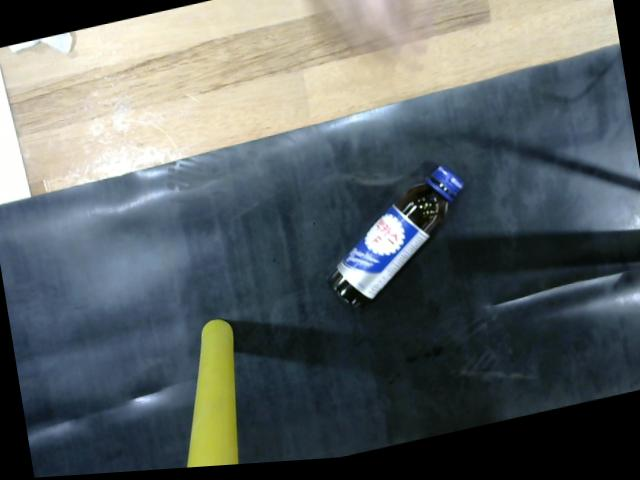glass: (317, 159, 474, 317)
